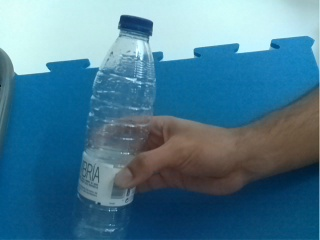botella plastico: (74, 15, 155, 240)
